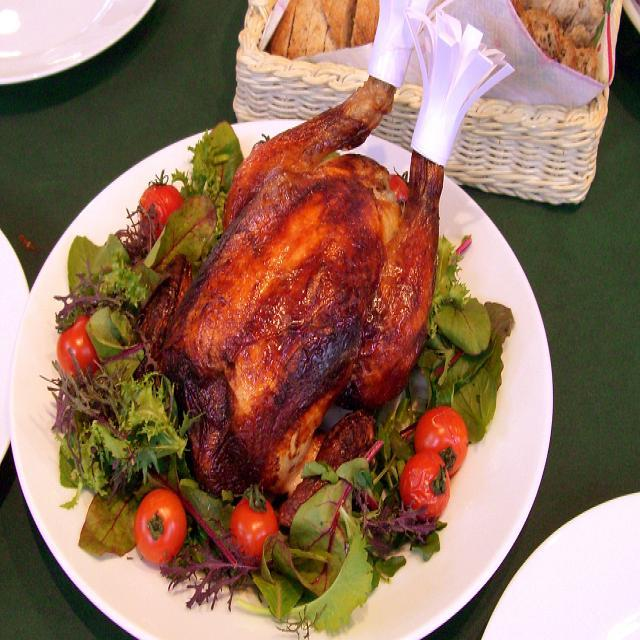Chicken roast: (169, 73, 424, 463)
Tomato: (413, 410, 471, 472), (129, 500, 180, 566), (227, 490, 272, 563), (409, 457, 449, 517)
